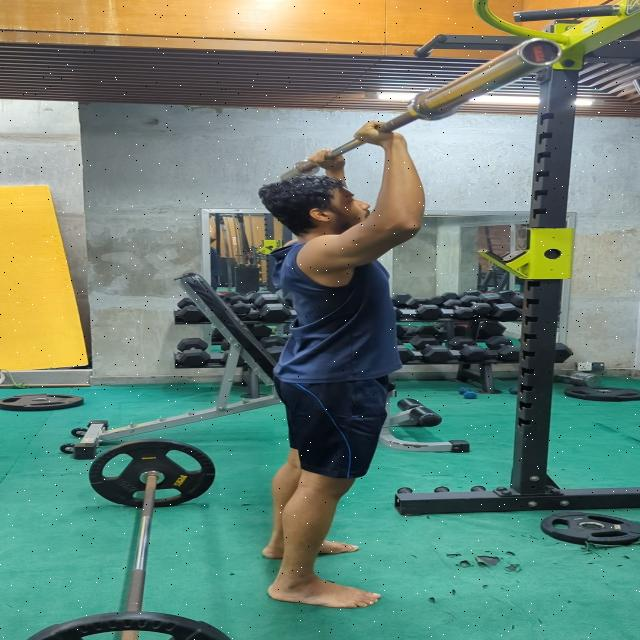Normal_OverheadPress: (237, 105, 471, 615)
